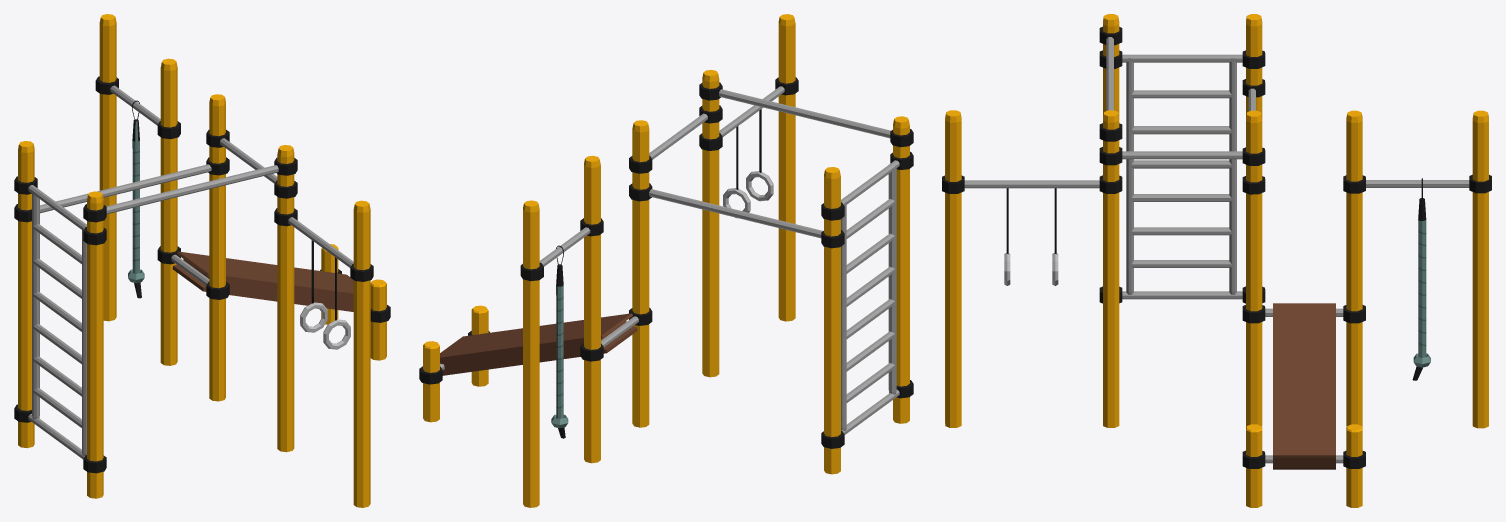
File: Sportsground_01.fbx
The picture shows the model from 3 angles, left to right: view 1: azimuth 30°, elevation 25°; view 2: azimuth 150°, elevation 25°; view 3: azimuth 270°, elevation 25°; orthographic projection. The views are drawn at different scales.
Parts seen in each view (by area): view 1: Sportsground_01; view 2: Sportsground_01; view 3: Sportsground_01.
Boxes of the visible parts, <box> form: Sportsground_01: <box>14,14,390,507</box>; Sportsground_01: <box>419,14,913,507</box>; Sportsground_01: <box>942,14,1491,507</box>.
Bounding box in the file's own units: 311 × 241 × 385.
